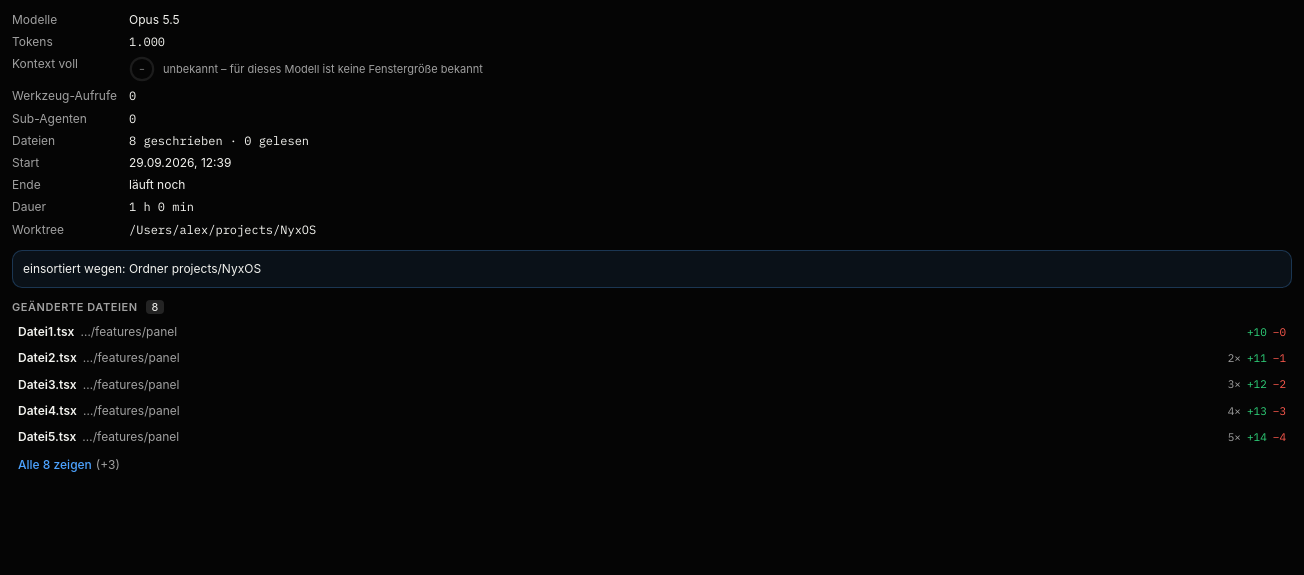
Scenario: Geänderte Dateien rechts › zeigt erst 5 Dateien, „Alle 8 zeigen“ klappt aus; Name fett, Ordner gekürzt, voller Pfad im Tooltip, +/−
Expected: the text "+10" is shown, [1247, 325, 1267, 339]
Expected: the number of list items is 5, [12, 320, 1292, 344]; [12, 346, 1292, 371]; [12, 372, 1292, 397]; [12, 399, 1292, 423]; [12, 425, 1292, 449]
Click the button "Alle 8 zeigen(+3)": (69, 465) [12, 455, 126, 475]
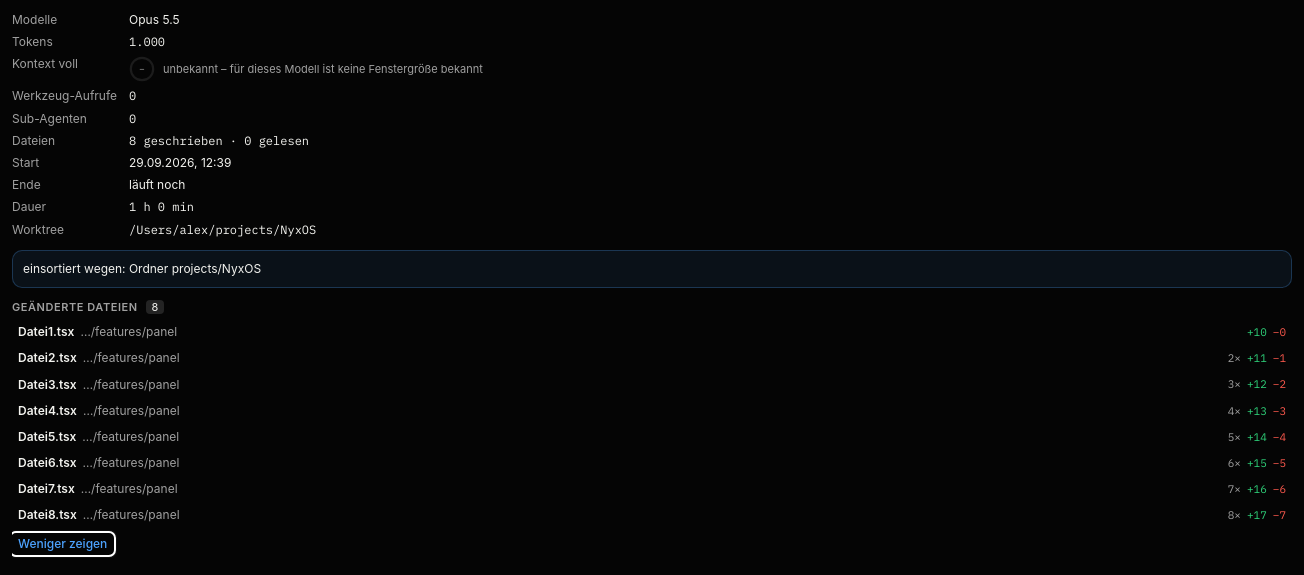
Expected: the number of list items is 8
Click the button "Weniger zeigen": (63, 544) [12, 534, 113, 554]
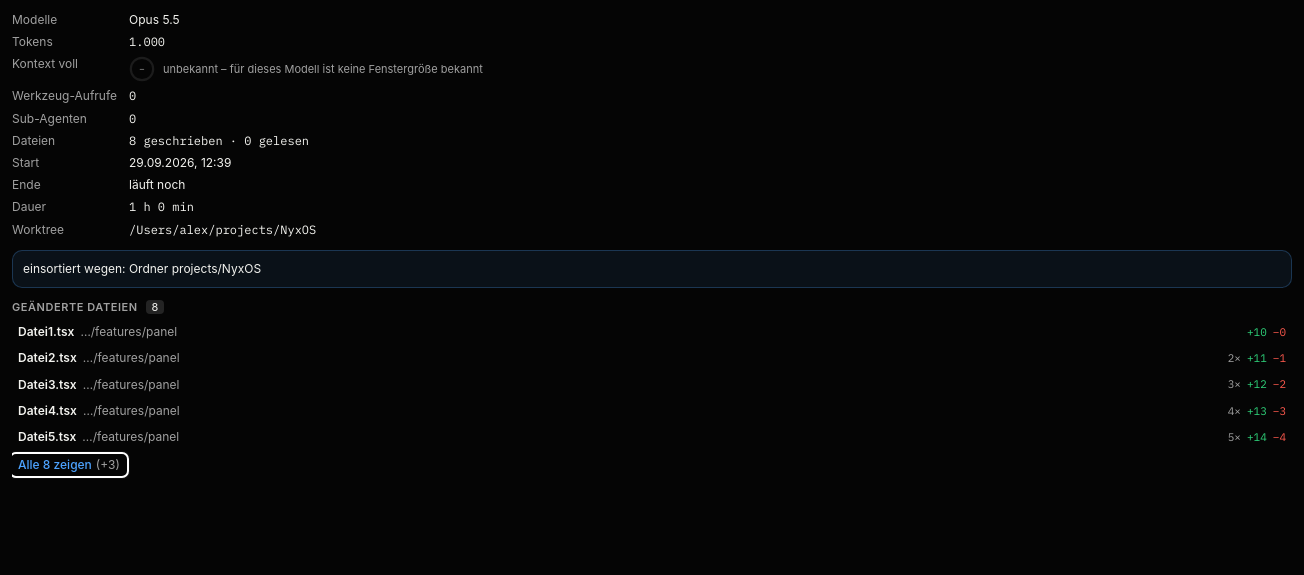
Expected: the number of list items is 5, [12, 320, 1292, 344]; [12, 346, 1292, 371]; [12, 372, 1292, 397]; [12, 399, 1292, 423]; [12, 425, 1292, 449]
